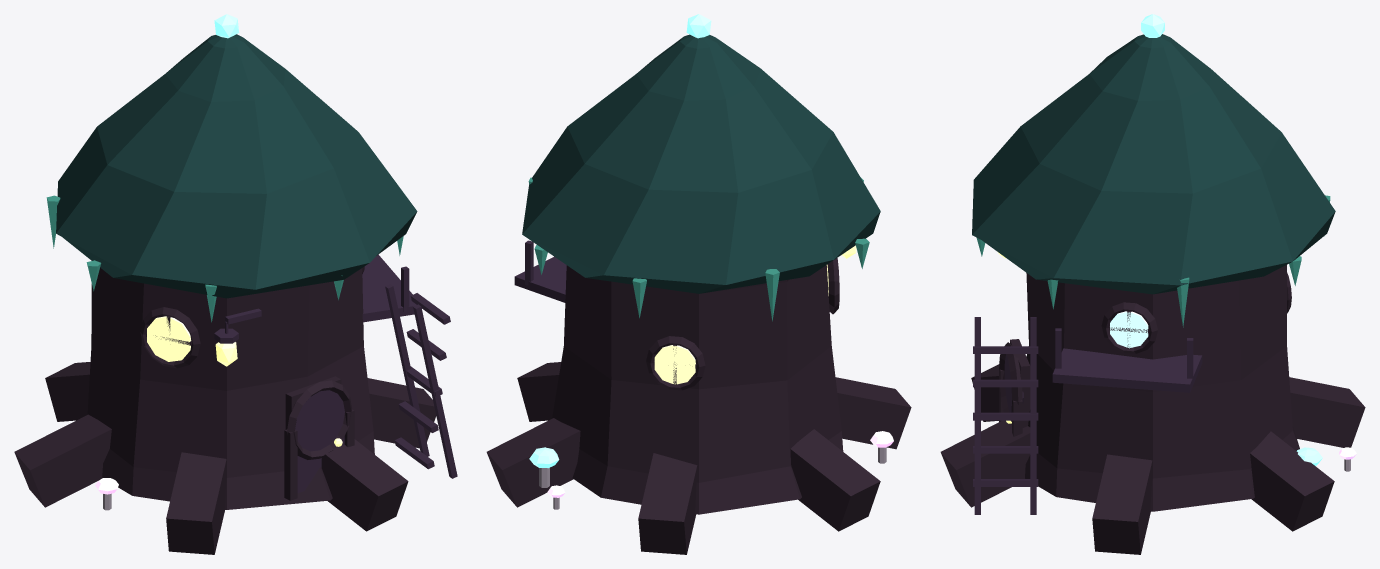
Rendered from maison_souche_modele.glb.
3 renders of one model, left to right at view 1: azimuth 30°, elevation 25°; view 2: azimuth 150°, elevation 25°; view 3: azimuth 270°, elevation 25°, orthographic.
Parts seen in each view (by area): view 1: Toit, L1.001, P7.007, P8.007, P3, P4.007, P6.007, P41, P29.003, P44.001, P25.004, P45.001 (+5 smaller); view 2: Toit, L1.001, P7.007, P6.007, P5, P8.007, P4.007, P41, P37.001, P38.001, P30.003; view 3: Toit, L1.001, P5, P4.007, P41, P6.007, P3, P45.001, P44.001, P34.001, P33.002, P25.004 (+5 smaller).
Part boxes in pixels (x1,y1,x2,y2): Toit: (56, 34, 417, 298); L1.001: (87, 267, 374, 509); P7.007: (14, 414, 111, 507); P8.007: (166, 452, 226, 554); P3: (321, 439, 408, 531); P4.007: (367, 378, 436, 448); P6.007: (45, 362, 90, 421); P41: (362, 254, 416, 322); P29.003: (147, 316, 191, 361); P44.001: (413, 304, 457, 478); P25.004: (287, 380, 351, 459); P45.001: (385, 284, 429, 456); Toit: (522, 34, 880, 293); L1.001: (552, 265, 843, 514); P7.007: (790, 429, 880, 531); P6.007: (638, 453, 697, 554); P5: (486, 418, 580, 507); P8.007: (835, 377, 911, 449); P4.007: (517, 362, 561, 421); P41: (514, 256, 566, 302); P37.001: (654, 345, 695, 384); P38.001: (646, 336, 705, 390); P30.003: (827, 258, 839, 314); Toit: (972, 34, 1335, 294); L1.001: (1025, 265, 1299, 511); P5: (1250, 431, 1334, 531); P4.007: (1092, 454, 1152, 554); P41: (1052, 348, 1202, 392); P6.007: (1289, 377, 1365, 447); P3: (940, 420, 1030, 507); P45.001: (1030, 317, 1036, 514); P44.001: (974, 317, 980, 514); P34.001: (1101, 302, 1157, 353); P33.002: (1110, 311, 1148, 348); P25.004: (999, 342, 1022, 424).
Size of the model in its own units: 2.82 by 3.24 by 2.74.
